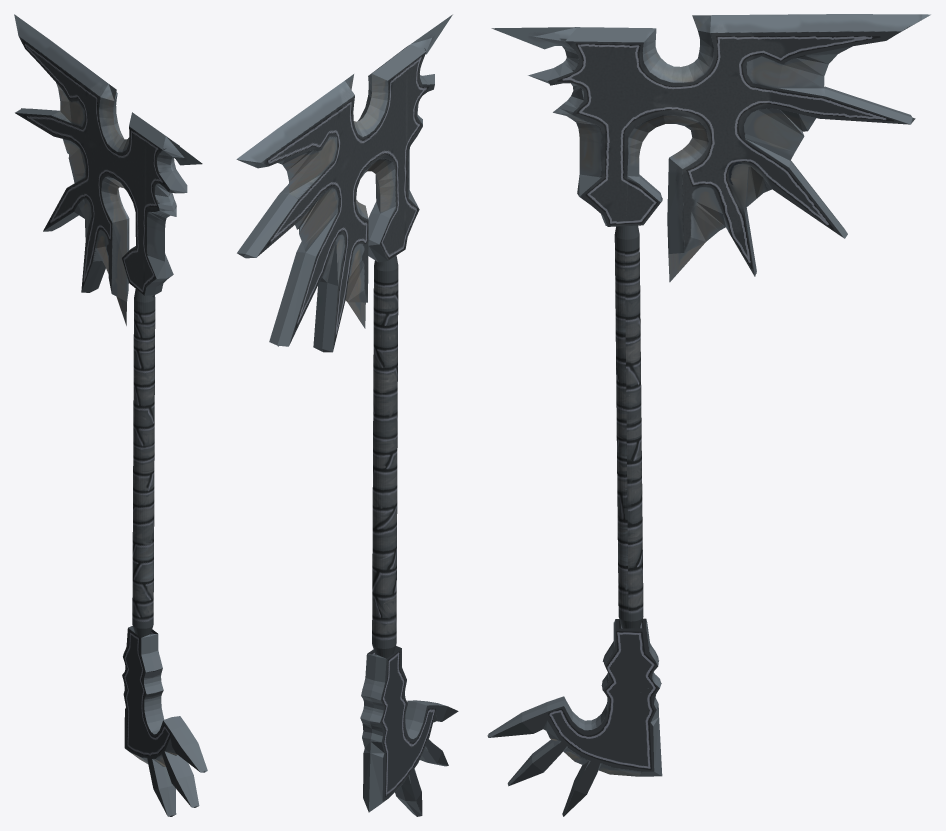
Rendered from axe.dae.
3 renders of one model, left to right at view 1: azimuth 30°, elevation 25°; view 2: azimuth 150°, elevation 25°; view 3: azimuth 270°, elevation 25°, orthographic. The views are drawn at different scales.
Visible parts, largest first — view 1: axe; view 2: axe; view 3: axe.
Part boxes in pixels (bbox=[...]): axe: bbox=[14, 14, 207, 816]; axe: bbox=[236, 14, 458, 816]; axe: bbox=[487, 14, 930, 816].
Bounding box in the file's own units: 0.5353 × 19.04 × 9.56.
1 material, 1 textured.
